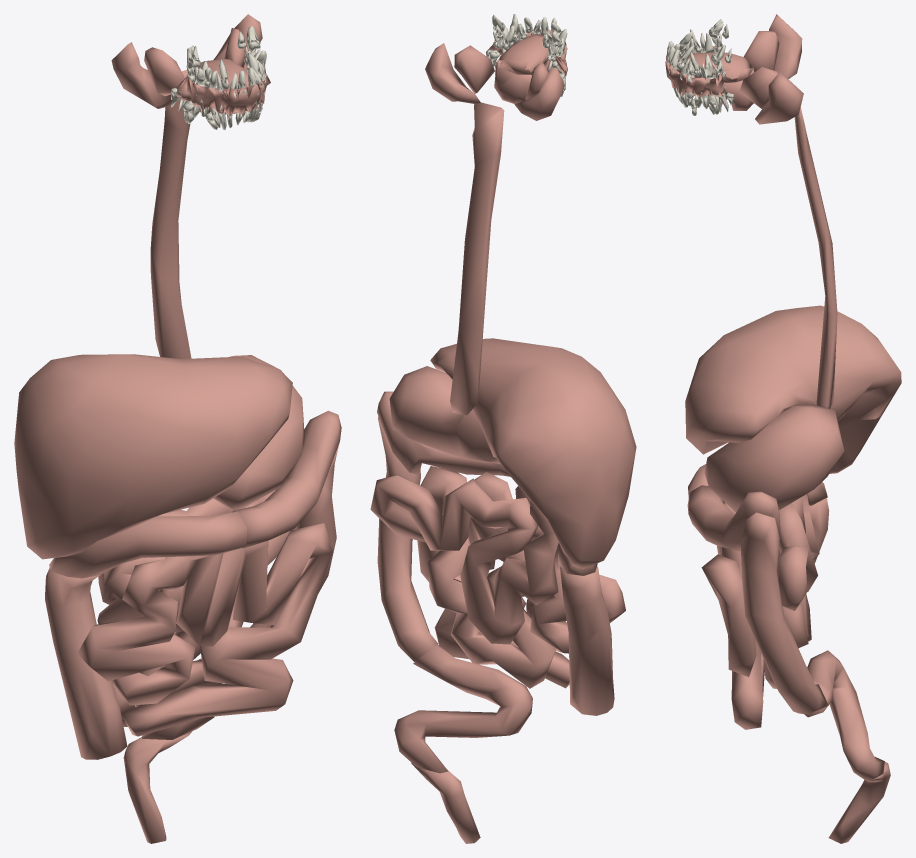
The model's file is pediatric_child_10y_female.digestive.LOD3.glb.
The picture shows the model from 3 angles, left to right: view 1: azimuth 30°, elevation 25°; view 2: azimuth 150°, elevation 25°; view 3: azimuth 270°, elevation 25°; orthographic projection. The views are drawn at different scales.
Parts seen in each view (by area): view 1: PEDIATRIC.CHILD_10Y.FEMALE.DIGESTIVE.LIVER, PEDIATRIC.CHILD_10Y.FEMALE.DIGESTIVE.SMALL_INTESTINE_WALL, PEDIATRIC.CHILD_10Y.FEMALE.DIGESTIVE.ASCENDING_COLON_WALL, PEDIATRIC.CHILD_10Y.FEMALE.DIGESTIVE.OESOPHAGUS_WALL, PEDIATRIC.CHILD_10Y.FEMALE.DIGESTIVE.TRANSVERSE_COLON_WALL.R, PEDIATRIC.CHILD_10Y.FEMALE.DIGESTIVE.TRANSVERSE_COLON_WALL.L, PEDIATRIC.CHILD_10Y.FEMALE.DIGESTIVE.STOMACH_WALL, PEDIATRIC.CHILD_10Y.FEMALE.DIGESTIVE.SALIVARY_GLANDS.R, PEDIATRIC.CHILD_10Y.FEMALE.DIGESTIVE.RECTUM_WALL, PEDIATRIC.CHILD_10Y.FEMALE.DIGESTIVE.PERMANENT_CEMENTUM, PEDIATRIC.CHILD_10Y.FEMALE.DIGESTIVE.ORAL_MUCOSA_LIP_AND_CHE, PEDIATRIC.CHILD_10Y.FEMALE.DIGESTIVE.DESCENDING_COLON_WALL (+3 smaller); view 2: PEDIATRIC.CHILD_10Y.FEMALE.DIGESTIVE.SMALL_INTESTINE_WALL, PEDIATRIC.CHILD_10Y.FEMALE.DIGESTIVE.LIVER, PEDIATRIC.CHILD_10Y.FEMALE.DIGESTIVE.OESOPHAGUS_WALL, PEDIATRIC.CHILD_10Y.FEMALE.DIGESTIVE.SIGMOID_COLON_WALL, PEDIATRIC.CHILD_10Y.FEMALE.DIGESTIVE.ASCENDING_COLON_WALL, PEDIATRIC.CHILD_10Y.FEMALE.DIGESTIVE.STOMACH_WALL, PEDIATRIC.CHILD_10Y.FEMALE.DIGESTIVE.DESCENDING_COLON_WALL, PEDIATRIC.CHILD_10Y.FEMALE.DIGESTIVE.SALIVARY_GLANDS.L, PEDIATRIC.CHILD_10Y.FEMALE.DIGESTIVE.TRANSVERSE_COLON_WALL.L, PEDIATRIC.CHILD_10Y.FEMALE.DIGESTIVE.RECTUM_WALL, PEDIATRIC.CHILD_10Y.FEMALE.DIGESTIVE.SALIVARY_GLANDS.R, PEDIATRIC.CHILD_10Y.FEMALE.DIGESTIVE.PERMANENT_CEMENTUM (+2 smaller); view 3: PEDIATRIC.CHILD_10Y.FEMALE.DIGESTIVE.LIVER, PEDIATRIC.CHILD_10Y.FEMALE.DIGESTIVE.SMALL_INTESTINE_WALL, PEDIATRIC.CHILD_10Y.FEMALE.DIGESTIVE.STOMACH_WALL, PEDIATRIC.CHILD_10Y.FEMALE.DIGESTIVE.DESCENDING_COLON_WALL, PEDIATRIC.CHILD_10Y.FEMALE.DIGESTIVE.OESOPHAGUS_WALL, PEDIATRIC.CHILD_10Y.FEMALE.DIGESTIVE.SIGMOID_COLON_WALL, PEDIATRIC.CHILD_10Y.FEMALE.DIGESTIVE.TRANSVERSE_COLON_WALL.L, PEDIATRIC.CHILD_10Y.FEMALE.DIGESTIVE.SALIVARY_GLANDS.L, PEDIATRIC.CHILD_10Y.FEMALE.DIGESTIVE.SALIVARY_GLANDS.R, PEDIATRIC.CHILD_10Y.FEMALE.DIGESTIVE.RECTUM_WALL, PEDIATRIC.CHILD_10Y.FEMALE.DIGESTIVE.PERMANENT_CEMENTUM, PEDIATRIC.CHILD_10Y.FEMALE.DIGESTIVE.ORAL_MUCOSA_LIP_AND_CHE (+6 smaller).
Part boxes in pixels (x1,y1,x2,y2): PEDIATRIC.CHILD_10Y.FEMALE.DIGESTIVE.LIVER: [14, 354, 292, 559]; PEDIATRIC.CHILD_10Y.FEMALE.DIGESTIVE.SMALL_INTESTINE_WALL: [77, 490, 332, 736]; PEDIATRIC.CHILD_10Y.FEMALE.DIGESTIVE.ASCENDING_COLON_WALL: [45, 567, 127, 759]; PEDIATRIC.CHILD_10Y.FEMALE.DIGESTIVE.OESOPHAGUS_WALL: [150, 68, 191, 358]; PEDIATRIC.CHILD_10Y.FEMALE.DIGESTIVE.TRANSVERSE_COLON_WALL.R: [49, 511, 246, 578]; PEDIATRIC.CHILD_10Y.FEMALE.DIGESTIVE.TRANSVERSE_COLON_WALL.L: [232, 410, 341, 548]; PEDIATRIC.CHILD_10Y.FEMALE.DIGESTIVE.STOMACH_WALL: [213, 355, 304, 510]; PEDIATRIC.CHILD_10Y.FEMALE.DIGESTIVE.SALIVARY_GLANDS.R: [111, 42, 226, 116]; PEDIATRIC.CHILD_10Y.FEMALE.DIGESTIVE.RECTUM_WALL: [123, 731, 191, 843]; PEDIATRIC.CHILD_10Y.FEMALE.DIGESTIVE.PERMANENT_CEMENTUM: [171, 26, 266, 129]; PEDIATRIC.CHILD_10Y.FEMALE.DIGESTIVE.ORAL_MUCOSA_LIP_AND_CHE: [176, 67, 270, 116]; PEDIATRIC.CHILD_10Y.FEMALE.DIGESTIVE.DESCENDING_COLON_WALL: [250, 443, 339, 627]; PEDIATRIC.CHILD_10Y.FEMALE.DIGESTIVE.SMALL_INTESTINE_WALL: [370, 466, 625, 688]; PEDIATRIC.CHILD_10Y.FEMALE.DIGESTIVE.LIVER: [430, 338, 636, 569]; PEDIATRIC.CHILD_10Y.FEMALE.DIGESTIVE.OESOPHAGUS_WALL: [450, 102, 504, 415]; PEDIATRIC.CHILD_10Y.FEMALE.DIGESTIVE.SIGMOID_COLON_WALL: [394, 644, 532, 773]; PEDIATRIC.CHILD_10Y.FEMALE.DIGESTIVE.ASCENDING_COLON_WALL: [560, 566, 614, 715]; PEDIATRIC.CHILD_10Y.FEMALE.DIGESTIVE.STOMACH_WALL: [389, 366, 500, 463]; PEDIATRIC.CHILD_10Y.FEMALE.DIGESTIVE.DESCENDING_COLON_WALL: [377, 416, 438, 661]; PEDIATRIC.CHILD_10Y.FEMALE.DIGESTIVE.SALIVARY_GLANDS.L: [425, 43, 494, 103]; PEDIATRIC.CHILD_10Y.FEMALE.DIGESTIVE.TRANSVERSE_COLON_WALL.L: [377, 391, 510, 476]; PEDIATRIC.CHILD_10Y.FEMALE.DIGESTIVE.RECTUM_WALL: [411, 763, 480, 843]; PEDIATRIC.CHILD_10Y.FEMALE.DIGESTIVE.SALIVARY_GLANDS.R: [514, 61, 564, 120]; PEDIATRIC.CHILD_10Y.FEMALE.DIGESTIVE.PERMANENT_CEMENTUM: [492, 14, 567, 97]; PEDIATRIC.CHILD_10Y.FEMALE.DIGESTIVE.LIVER: [685, 305, 901, 473]; PEDIATRIC.CHILD_10Y.FEMALE.DIGESTIVE.SMALL_INTESTINE_WALL: [701, 493, 819, 729]; PEDIATRIC.CHILD_10Y.FEMALE.DIGESTIVE.STOMACH_WALL: [704, 404, 844, 512]; PEDIATRIC.CHILD_10Y.FEMALE.DIGESTIVE.DESCENDING_COLON_WALL: [740, 512, 828, 714]; PEDIATRIC.CHILD_10Y.FEMALE.DIGESTIVE.OESOPHAGUS_WALL: [794, 107, 837, 409]; PEDIATRIC.CHILD_10Y.FEMALE.DIGESTIVE.SIGMOID_COLON_WALL: [804, 650, 884, 782]; PEDIATRIC.CHILD_10Y.FEMALE.DIGESTIVE.TRANSVERSE_COLON_WALL.L: [687, 485, 780, 551]; PEDIATRIC.CHILD_10Y.FEMALE.DIGESTIVE.SALIVARY_GLANDS.L: [708, 67, 803, 124]; PEDIATRIC.CHILD_10Y.FEMALE.DIGESTIVE.SALIVARY_GLANDS.R: [743, 14, 802, 78]; PEDIATRIC.CHILD_10Y.FEMALE.DIGESTIVE.RECTUM_WALL: [828, 762, 890, 843]; PEDIATRIC.CHILD_10Y.FEMALE.DIGESTIVE.PERMANENT_CEMENTUM: [666, 19, 732, 115]; PEDIATRIC.CHILD_10Y.FEMALE.DIGESTIVE.ORAL_MUCOSA_LIP_AND_CHE: [665, 46, 724, 96].
Bounding box in the file's own units: 0.2203 × 0.6227 × 0.1639.
